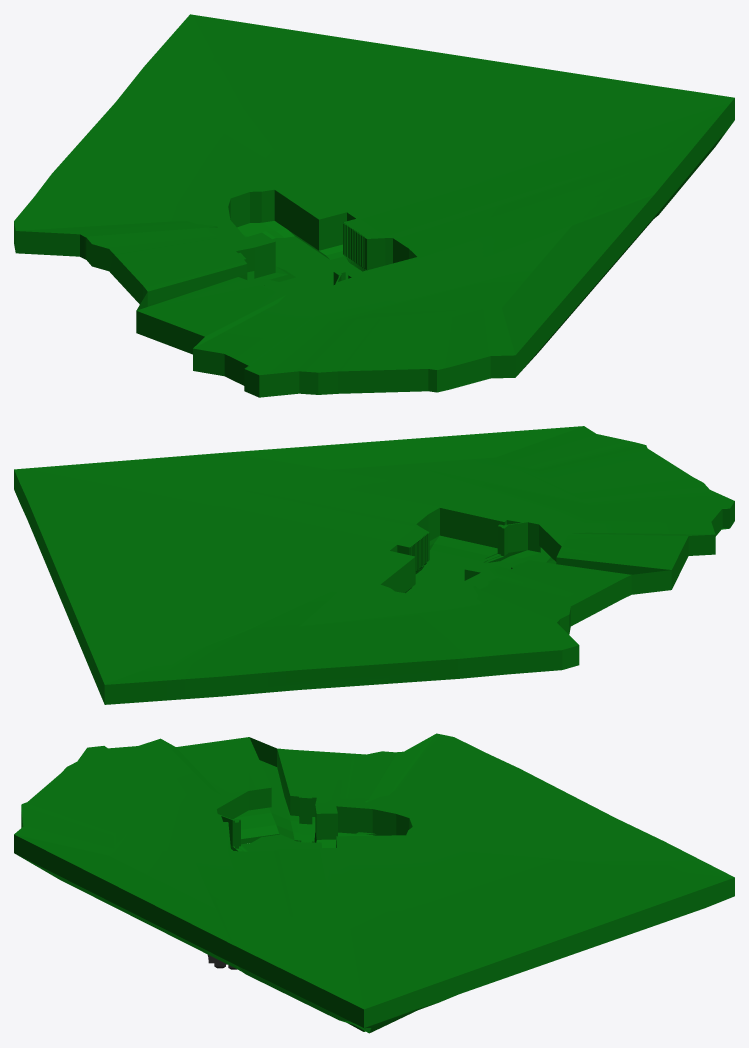
Rendered from GameObject 1 (1).fbx.
The picture shows the model from 3 angles, top to bottom: view 1: azimuth 30°, elevation 25°; view 2: azimuth 150°, elevation 25°; view 3: azimuth 270°, elevation 25°; orthographic projection. The views are drawn at different scales.
Visible parts, largest first — view 1: port; view 2: port; view 3: port.
Boxes of the visible parts, x1,y1,x2,y2 form: port: (14, 14, 734, 397); port: (14, 426, 734, 704); port: (14, 733, 734, 1033).
Size of the model in its own units: 1452 by 206 by 1603.
